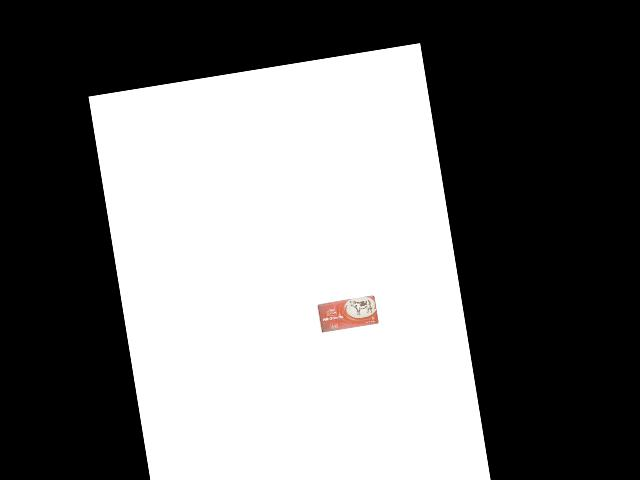chocolate: (315, 295, 379, 334)
